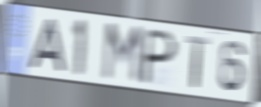1: (70, 17, 87, 78)
6: (220, 39, 246, 95)
A: (26, 17, 68, 74)
M: (101, 21, 145, 87)
P: (138, 26, 180, 87)
T: (185, 34, 211, 91)
